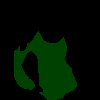t-shirt: (14, 30, 77, 100)
